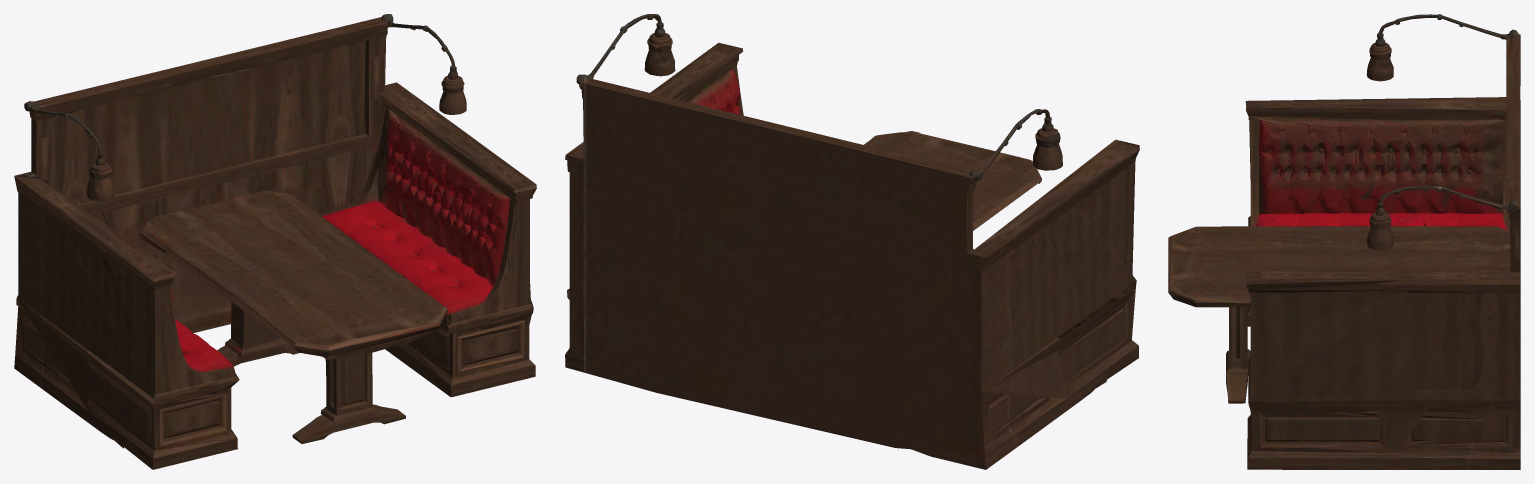
File: booth.glb
3 renders of one model, left to right at view 1: azimuth 30°, elevation 25°; view 2: azimuth 150°, elevation 25°; view 3: azimuth 270°, elevation 25°, orthographic. The views are drawn at different scales.
Bounding box in the file's own units: 1.9 × 1.36 × 1.54.
1 material, 1 textured.
